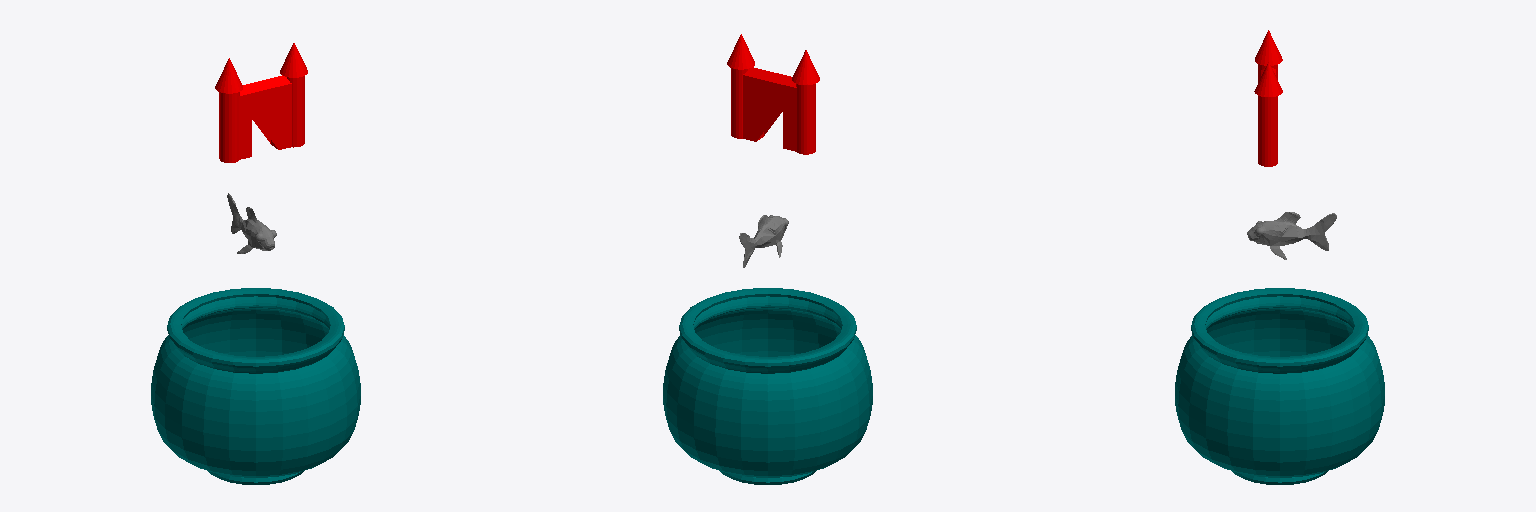
File: FCB.obj
3 renders of one model, left to right at view 1: azimuth 30°, elevation 25°; view 2: azimuth 150°, elevation 25°; view 3: azimuth 270°, elevation 25°, orthographic.
Parts seen in each view (by area): view 1: Bowl, Castle, polySurface1 group2 goldfish; view 2: Bowl, Castle, polySurface1 group2 goldfish; view 3: Bowl, Castle, polySurface1 group2 goldfish.
Part boxes in pixels (x1,y1,x2,y2): Bowl: (151,288,360,484); Castle: (215,43,307,162); polySurface1 group2 goldfish: (227,193,274,253); Bowl: (663,288,872,484); Castle: (727,34,819,154); polySurface1 group2 goldfish: (739,215,786,267); Bowl: (1175,288,1384,484); Castle: (1254,30,1282,166); polySurface1 group2 goldfish: (1247,212,1336,259).
Bounding box in the file's own units: 18.61 × 41.07 × 18.61.